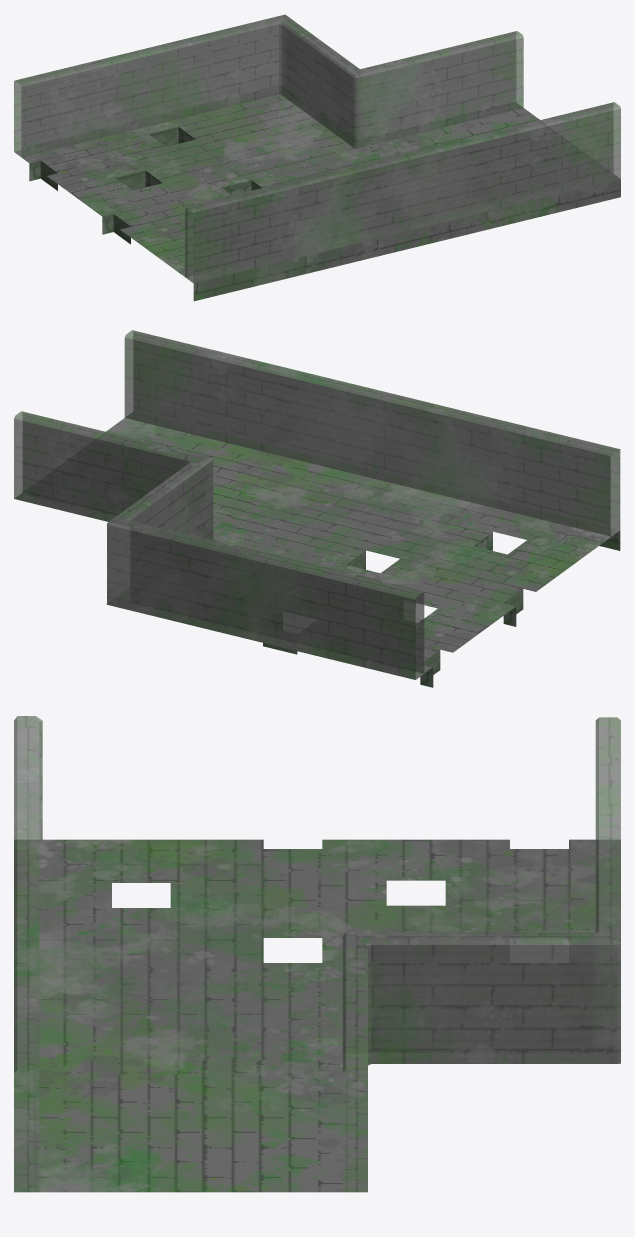
File: lvl_1-cnk_3.obj
The picture shows the model from 3 angles, top to bottom: view 1: azimuth 30°, elevation 25°; view 2: azimuth 150°, elevation 25°; view 3: azimuth 270°, elevation 25°; orthographic projection. The views are drawn at different scales.
Parts seen in each view (by area): view 1: Cube.033, Cube.034, Cube.035; view 2: Cube.033, Cube.034, Cube.035; view 3: Cube.033, Cube.034, Cube.035.
Boxes of the visible parts, <box> form: Cube.033: <box>14,86,620,301</box>; Cube.034: <box>14,14,523,157</box>; Cube.035: <box>185,102,620,283</box>; Cube.033: <box>15,412,620,687</box>; Cube.034: <box>14,411,424,679</box>; Cube.035: <box>124,330,620,537</box>; Cube.033: <box>14,839,620,1192</box>; Cube.034: <box>342,717,620,1192</box>; Cube.035: <box>14,716,42,1192</box>.
Bounding box in the file's own units: 99.4 × 20 × 72.
Materials: 2 (2 with a texture image).
